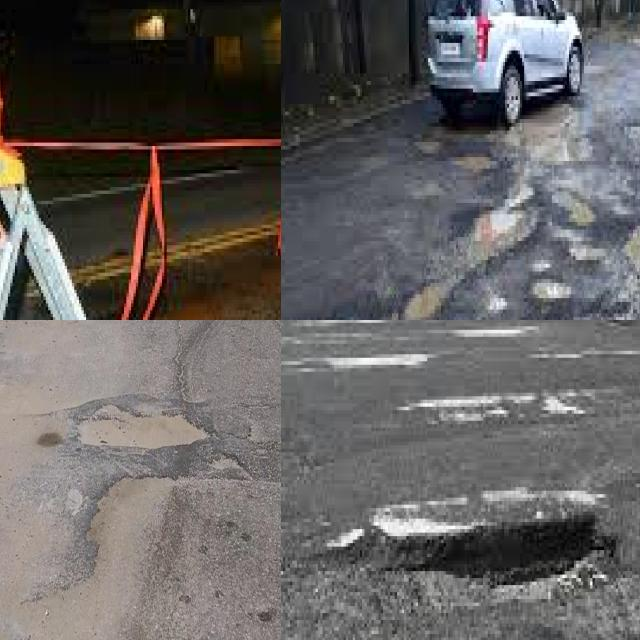Pothole: (390, 491, 613, 589), (78, 404, 203, 452)
